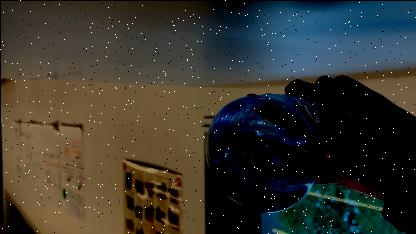Plastic Bottle: (196, 80, 336, 212)
